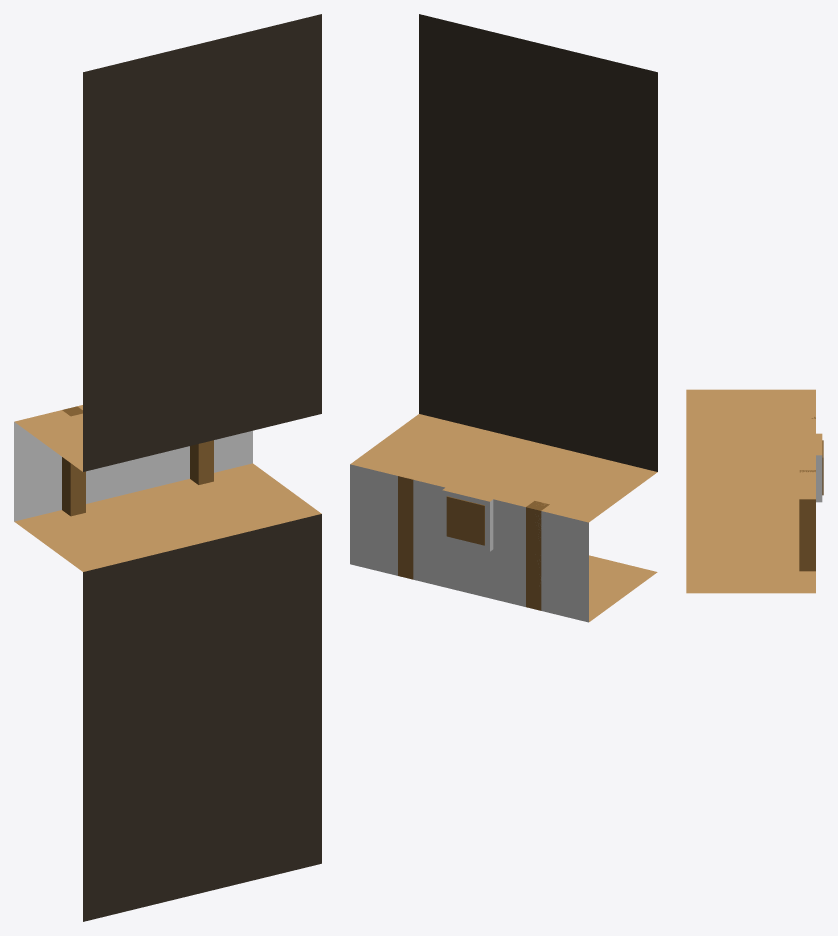
Rendered from Corridor-001.fbx.
3 views of the same model, side by side, from view 1: azimuth 30°, elevation 25°; view 2: azimuth 150°, elevation 25°; view 3: azimuth 270°, elevation 25° (orthographic). The views are drawn at different scales.
Parts seen in each view (by area): view 1: Corridor.001; view 2: Corridor.001; view 3: Corridor.001.
Part boxes in pixels (x1,y1,x2,y2): Corridor.001: (14, 14, 321, 921); Corridor.001: (350, 14, 657, 622); Corridor.001: (686, 389, 823, 593).
Size of the model in its own units: 1000 by 3400 by 529.
